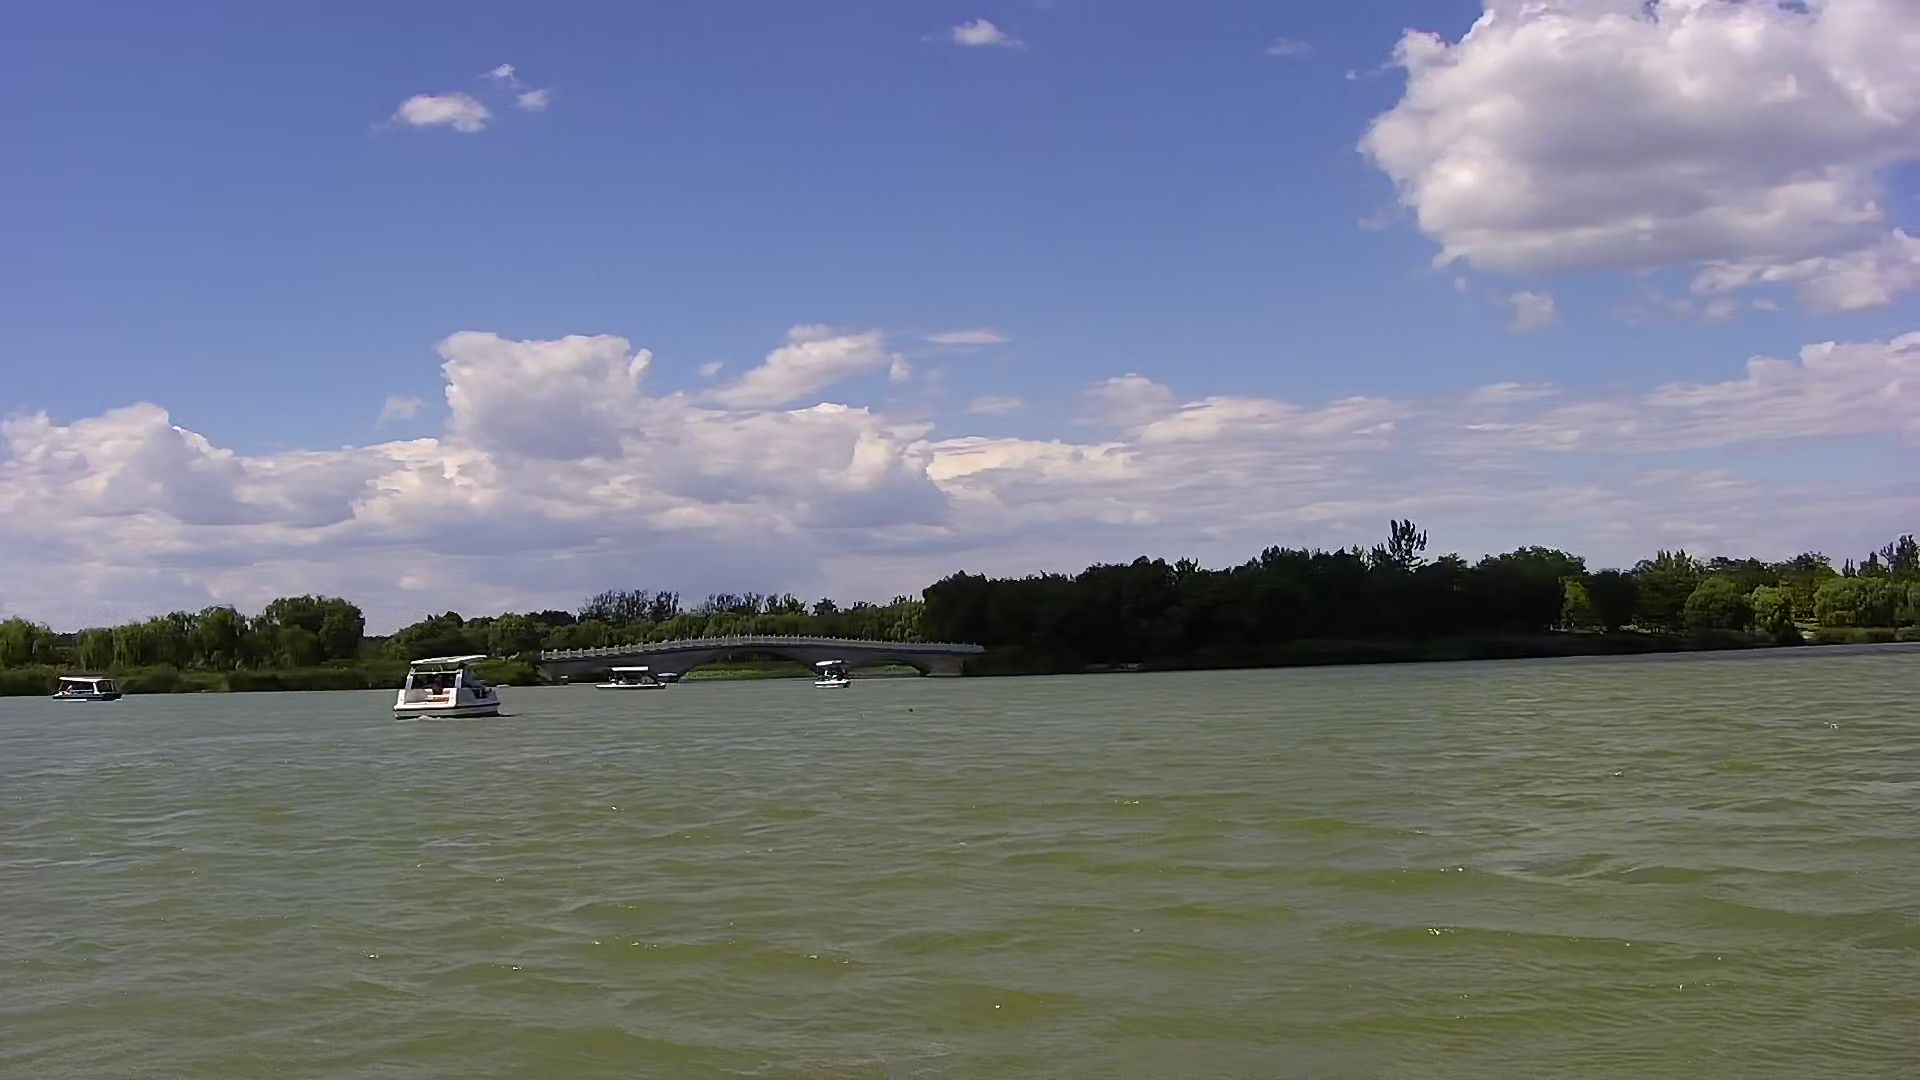boat: (388, 649, 506, 727), (51, 670, 123, 705), (593, 663, 671, 694), (812, 655, 852, 691)
bridge: (530, 633, 988, 680)
